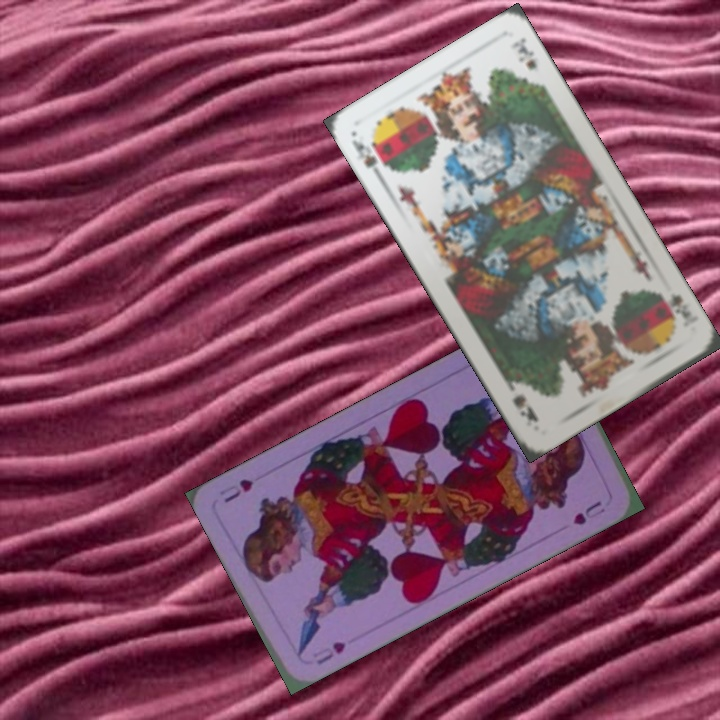HU: (313, 637, 348, 668)
SK: (347, 135, 389, 184), (663, 289, 690, 323)
